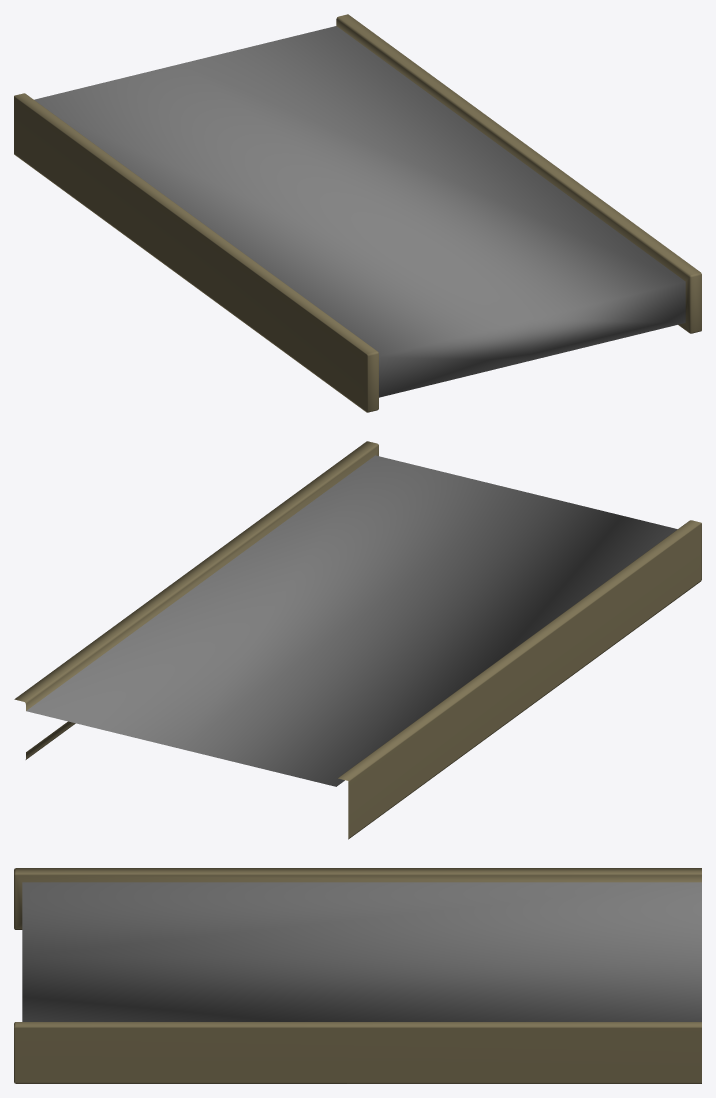
File: ConcreteWall.glb
The picture shows the model from 3 angles, top to bottom: view 1: azimuth 30°, elevation 25°; view 2: azimuth 150°, elevation 25°; view 3: azimuth 270°, elevation 25°; orthographic projection. The views are drawn at different scales.
Parts seen in each view (by area): view 1: Wall; view 2: Wall; view 3: Wall.
Part boxes in pixels (x1=…): Wall: x1=14, y1=14, x2=701, y2=412; Wall: x1=14, y1=441, x2=701, y2=839; Wall: x1=14, y1=868, x2=701, y2=1083.
Bounding box in the file's own units: 108 × 18.12 × 198.
